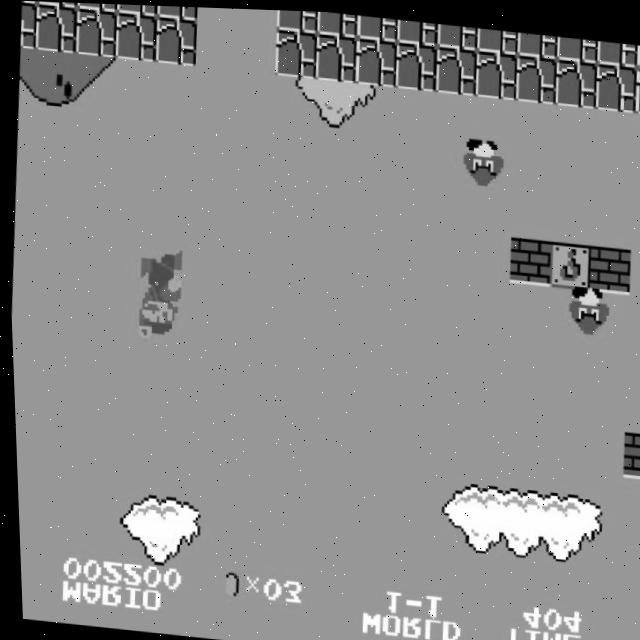0- big_mario: (131, 245, 182, 343)
1- brick_block: (505, 233, 551, 283), (585, 240, 630, 291), (617, 427, 640, 475)
13- mystery_block: (545, 236, 591, 286)
17- undestructible_block: (153, 14, 198, 65), (273, 26, 318, 77), (353, 34, 398, 85), (393, 38, 438, 89), (473, 46, 518, 97), (513, 50, 558, 101), (33, 3, 78, 53), (73, 7, 118, 57), (113, 11, 158, 61), (313, 31, 358, 81), (433, 42, 478, 92), (553, 54, 598, 104), (593, 58, 638, 108), (355, 12, 399, 39), (395, 16, 439, 43), (475, 24, 519, 51), (515, 28, 559, 55), (555, 32, 599, 59), (595, 36, 639, 63), (435, 20, 478, 47), (315, 9, 359, 35), (275, 8, 319, 31), (19, 2, 38, 49), (155, 5, 198, 19), (115, 3, 158, 16), (632, 62, 640, 111), (75, 2, 118, 11), (635, 40, 640, 65)
8- goomba: (561, 282, 609, 334)
